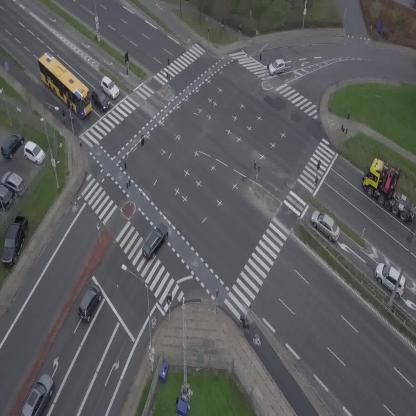bicycle: (236, 312, 253, 335), (217, 17, 227, 30), (61, 108, 67, 123)
bus: (29, 49, 101, 120)
car: (19, 371, 61, 416), (369, 259, 413, 301), (136, 220, 173, 263), (306, 207, 346, 244), (73, 282, 107, 324), (86, 87, 114, 114), (97, 75, 122, 101), (266, 57, 287, 76)
